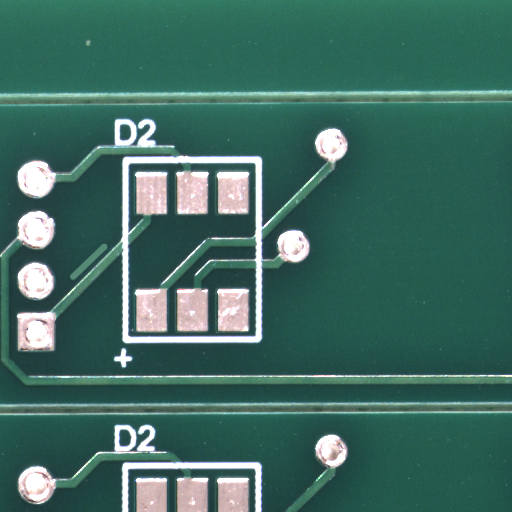Spurious_copper: (87, 261, 126, 298)
